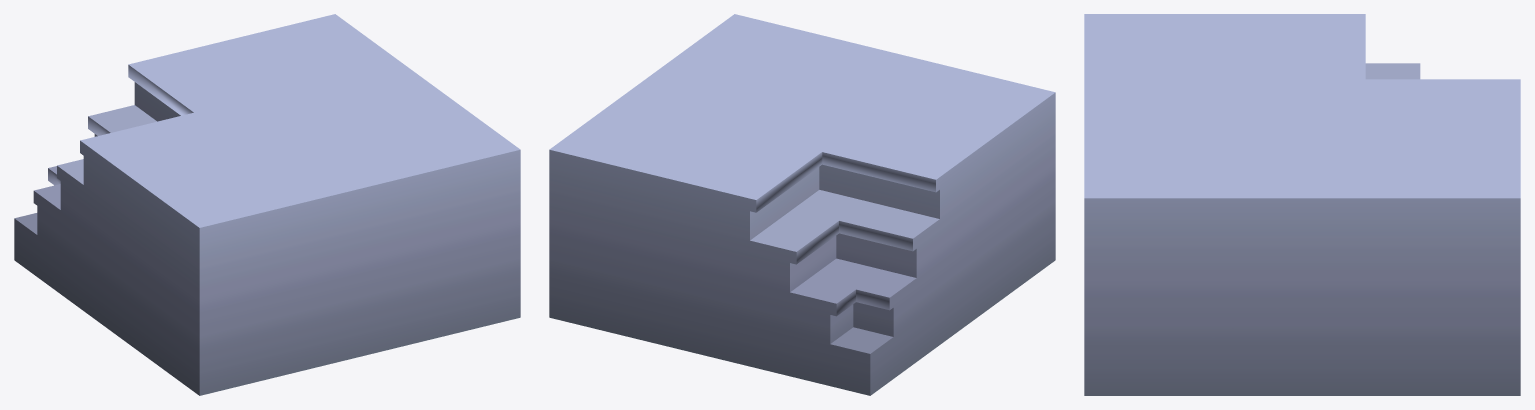
Rendered from stairs-full-corner-inner.glb.
The picture shows the model from 3 angles, left to right: view 1: azimuth 30°, elevation 25°; view 2: azimuth 150°, elevation 25°; view 3: azimuth 270°, elevation 25°; orthographic projection. The views are drawn at different scales.
Visible parts, largest first — view 1: stairs-full-corner-inner; view 2: stairs-full-corner-inner; view 3: stairs-full-corner-inner.
Part boxes in pixels (x1=…): stairs-full-corner-inner: x1=14, y1=14, x2=520, y2=395; stairs-full-corner-inner: x1=549, y1=14, x2=1055, y2=395; stairs-full-corner-inner: x1=1084, y1=14, x2=1520, y2=395.
Size of the model in its own units: 1 by 0.5001 by 1.
Materials: 1 (1 with a texture image).
